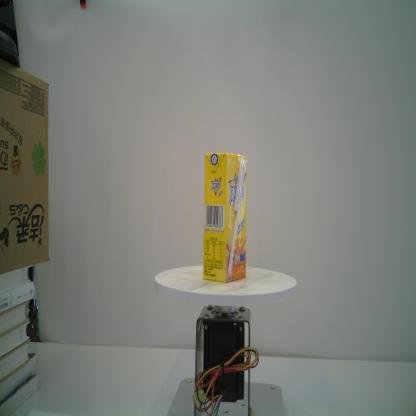Drink: (201, 151, 249, 283)
